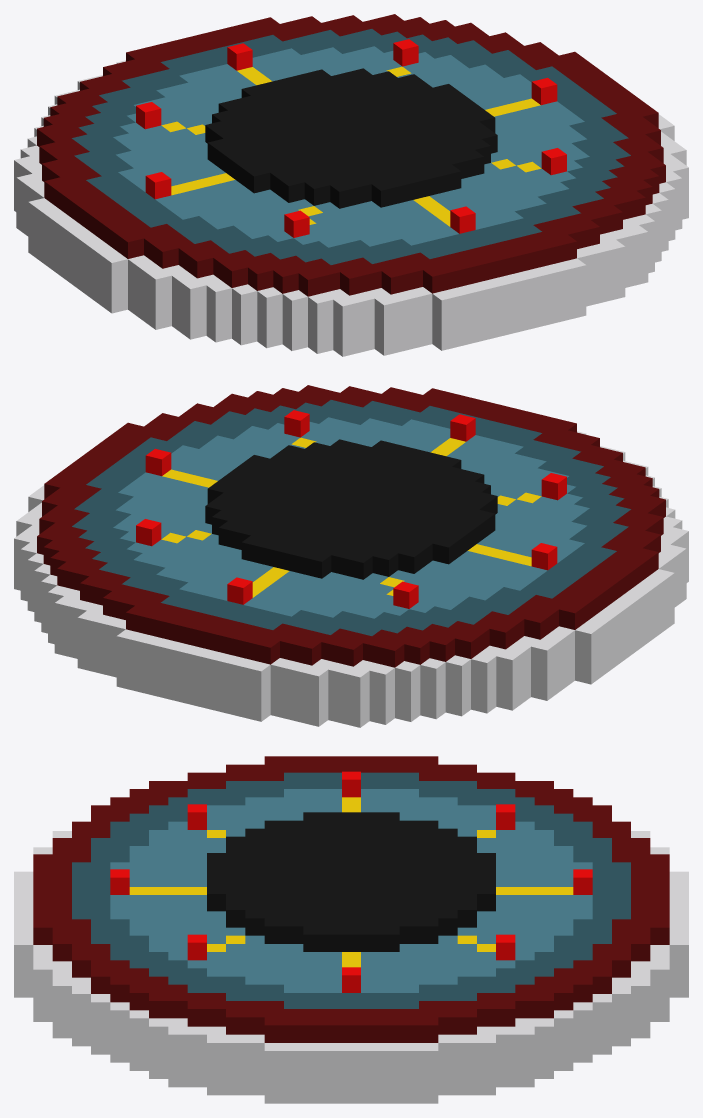
Rendered from Medieval Assets-360-Town Portal.obj.
3 views of the same model, one above another, from view 1: azimuth 30°, elevation 25°; view 2: azimuth 150°, elevation 25°; view 3: azimuth 270°, elevation 25° (orthographic). The views are drawn at different scales.
Visible parts, largest first — view 1: Town Portal; view 2: Town Portal; view 3: Town Portal.
Boxes of the visible parts, x1=… form: Town Portal: x1=14, y1=14, x2=688, y2=356; Town Portal: x1=14, y1=385, x2=688, y2=727; Town Portal: x1=14, y1=756, x2=688, y2=1103.
Size of the model in its own units: 3.5 by 0.5 by 3.5.
1 material, 1 textured.
